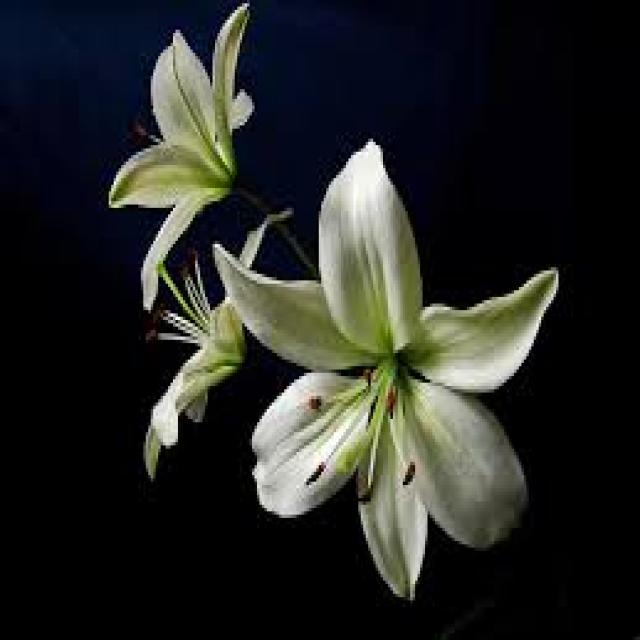lily: (201, 130, 572, 610)
